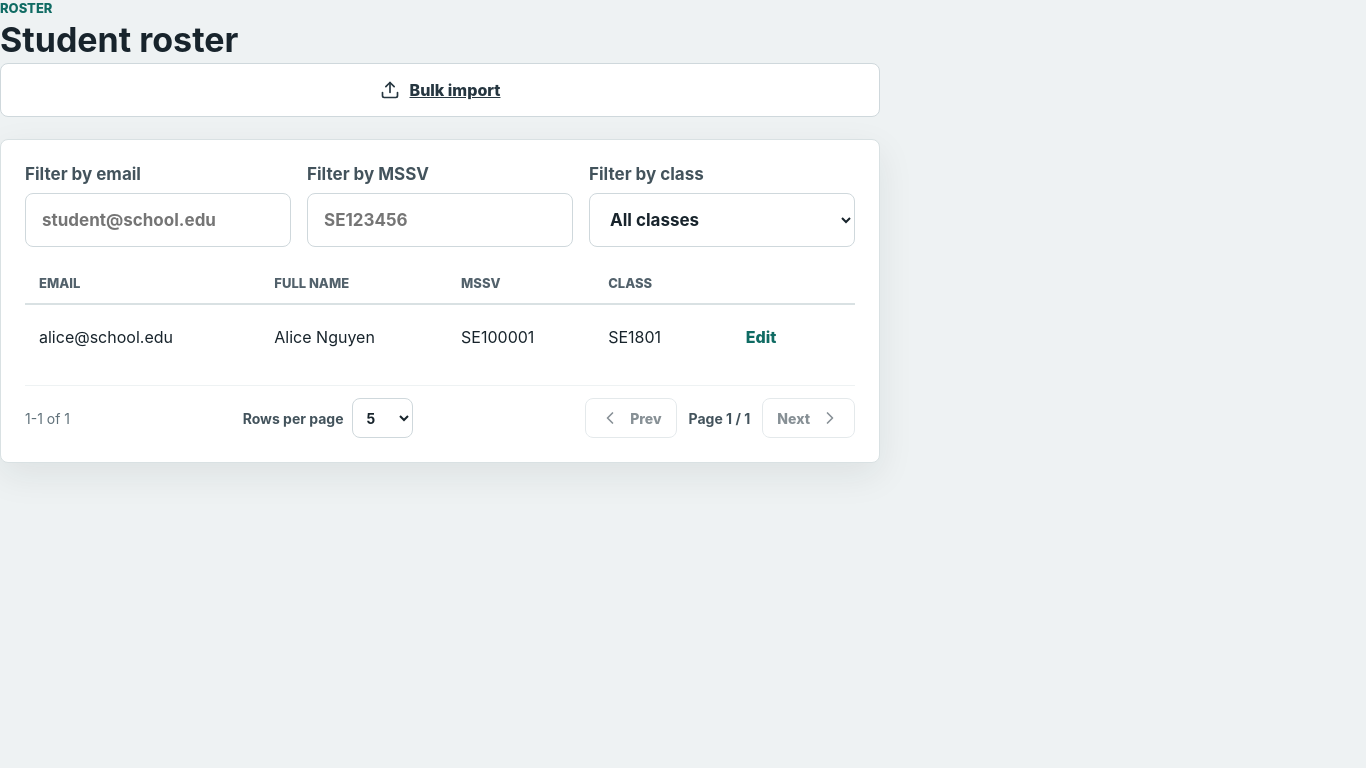
Test: RosterPage › opens the edit modal and saves an update
Expected: the text "alice@school.edu" is shown, [25,304,260,369]
Click the button "Edit".
click(761, 337)  # box [726,319,796,355]
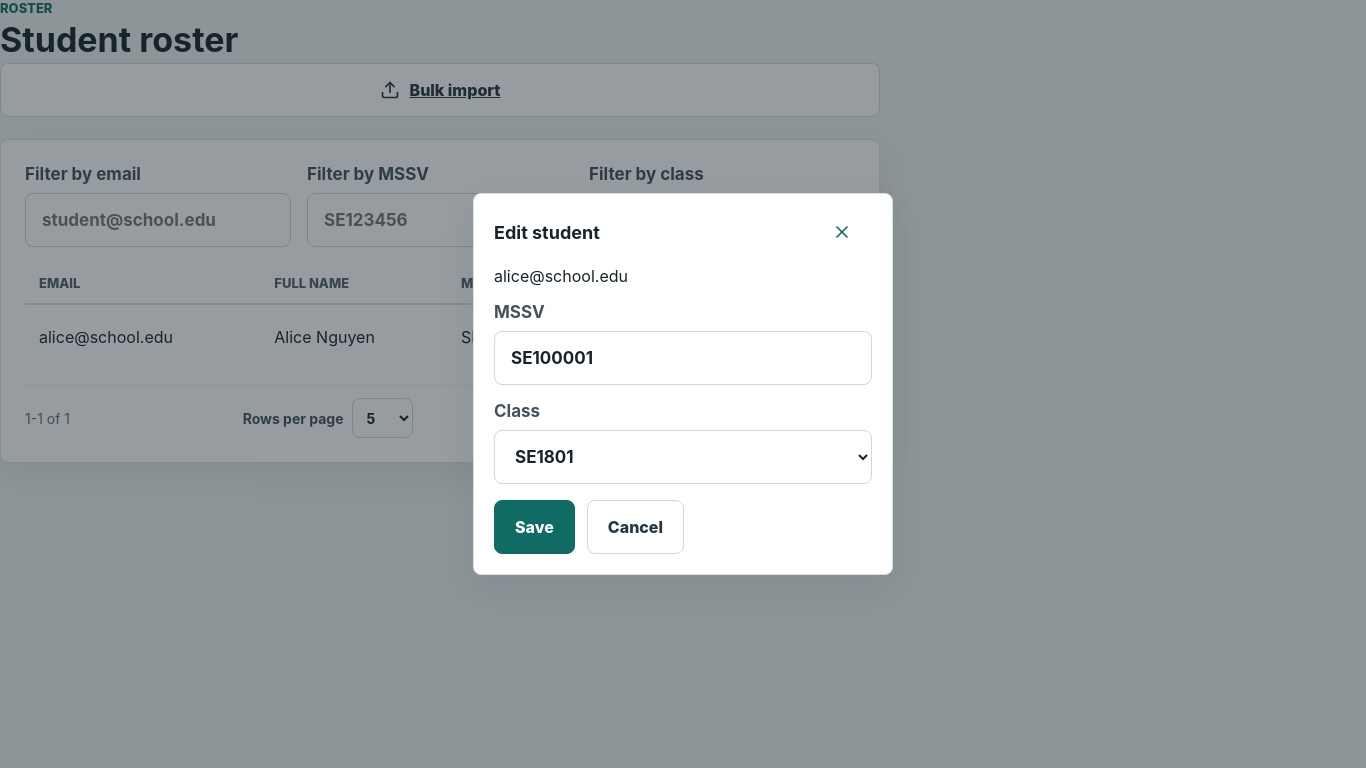
Replace the text in the field with placeholder "SE123456" with "SE999999" at [683, 358], box [494,331,872,385]
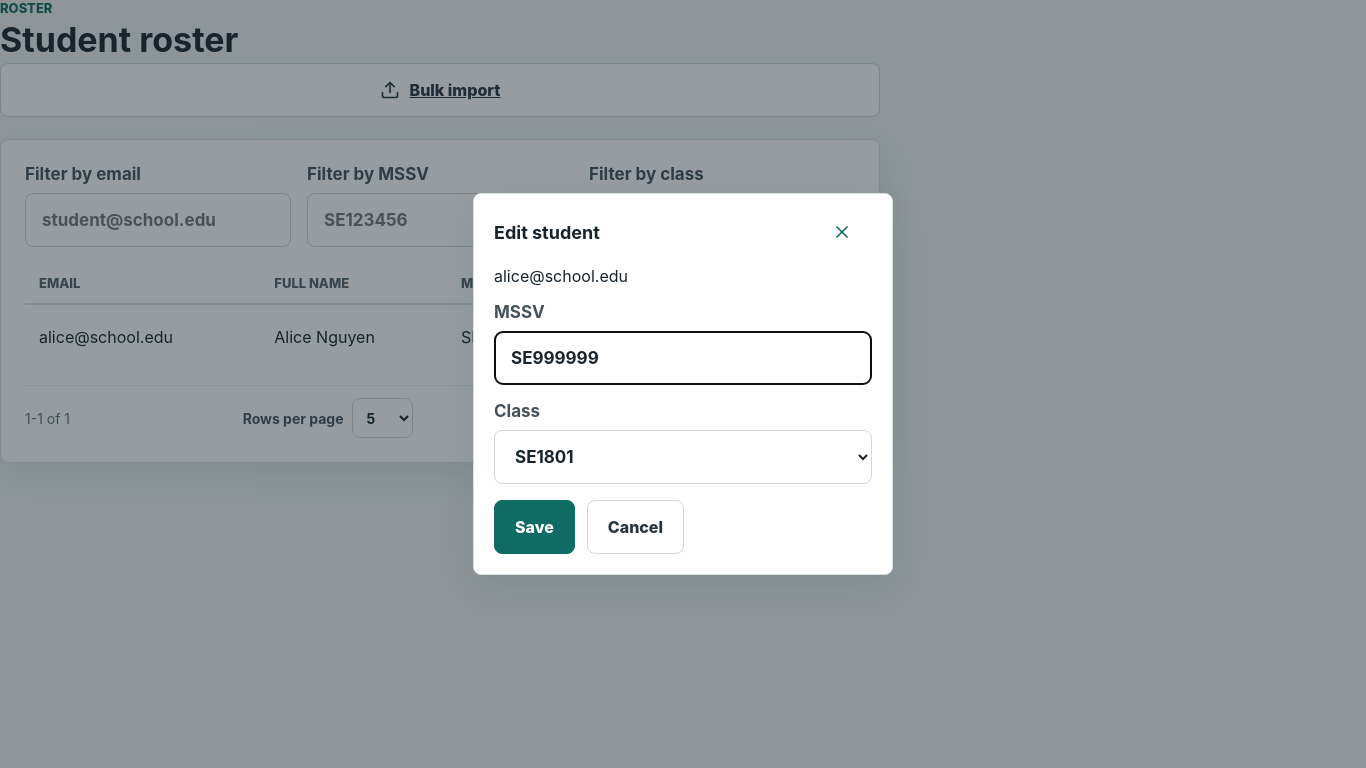
Click the button "Save".
click(534, 527)  # box [494,500,575,554]
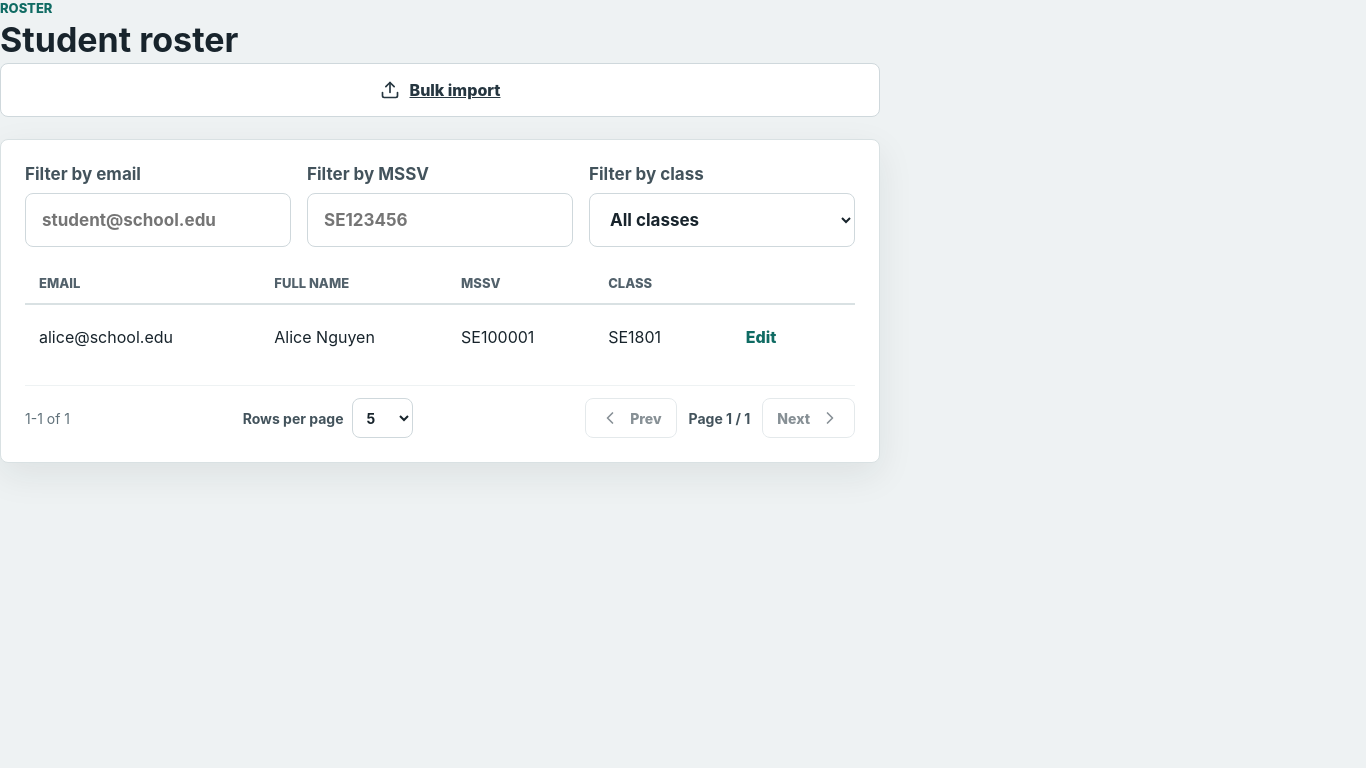
Expected: the dialog is gone
